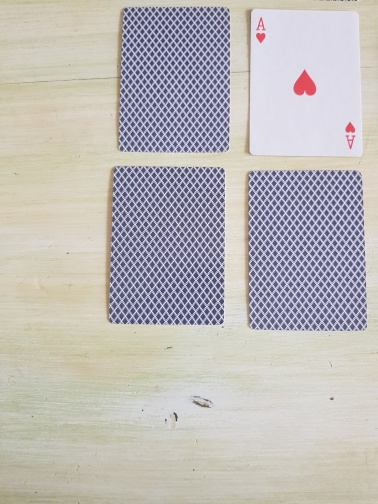ace: (248, 8, 364, 157)
